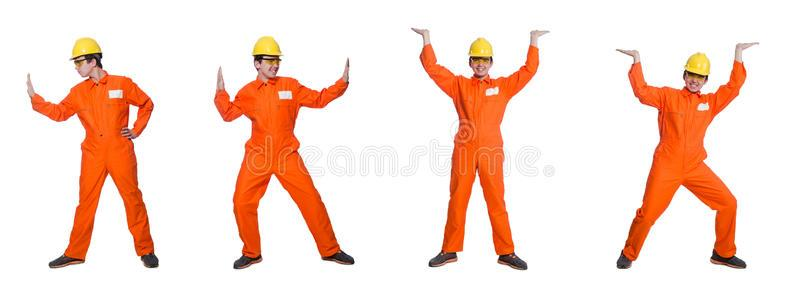helmet: (70, 39, 102, 62), (254, 38, 284, 58), (688, 54, 714, 77), (471, 38, 496, 58)
